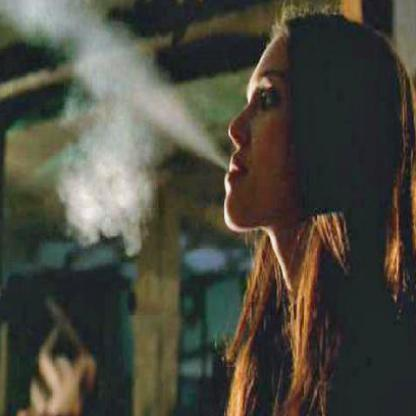person: (219, 0, 415, 415)
smoke: (0, 0, 226, 166), (55, 92, 160, 270)
